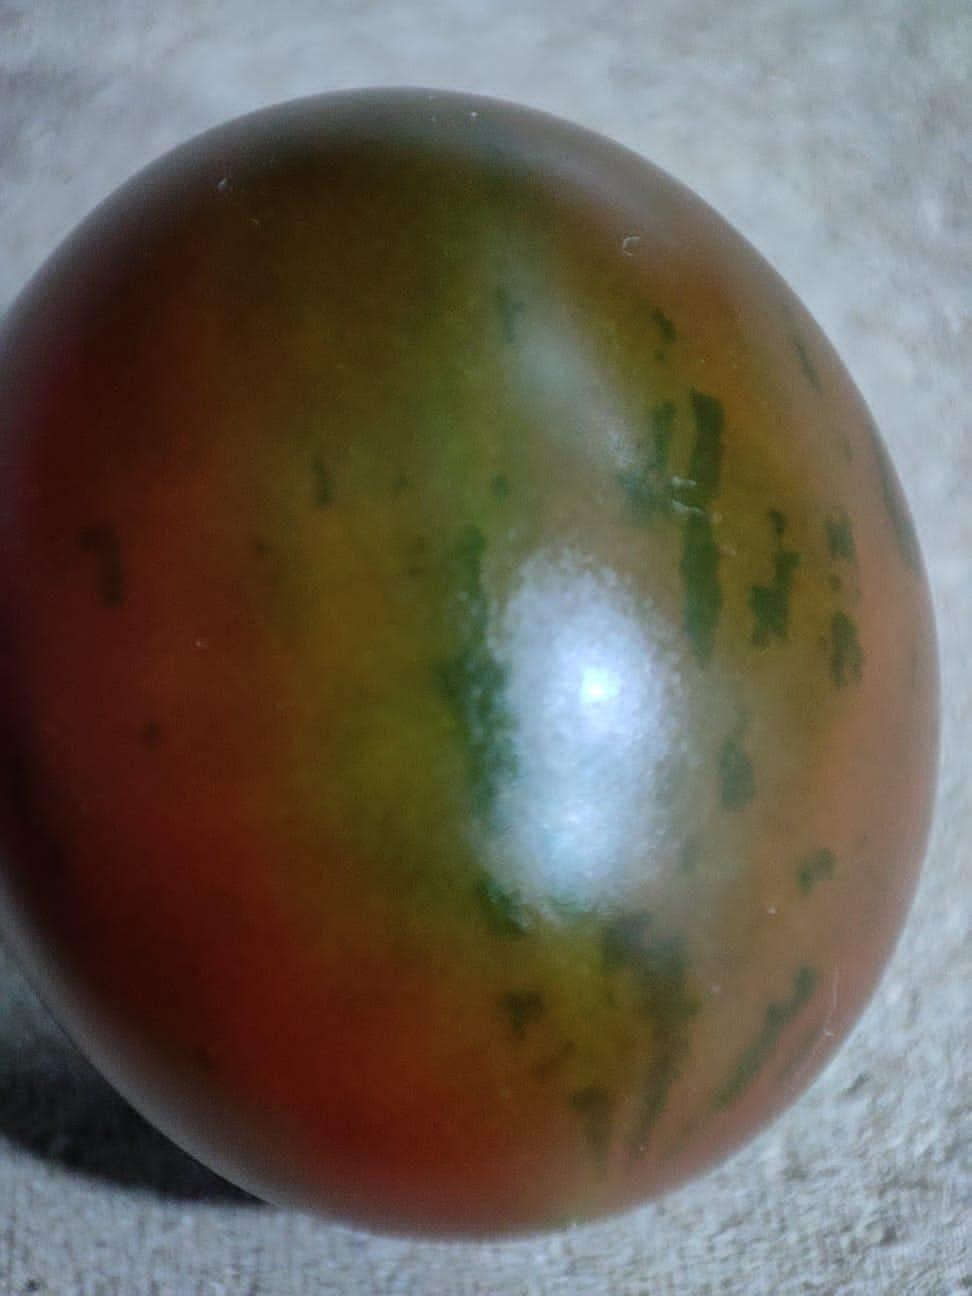Rugose tomato: (1, 88, 937, 1237)
